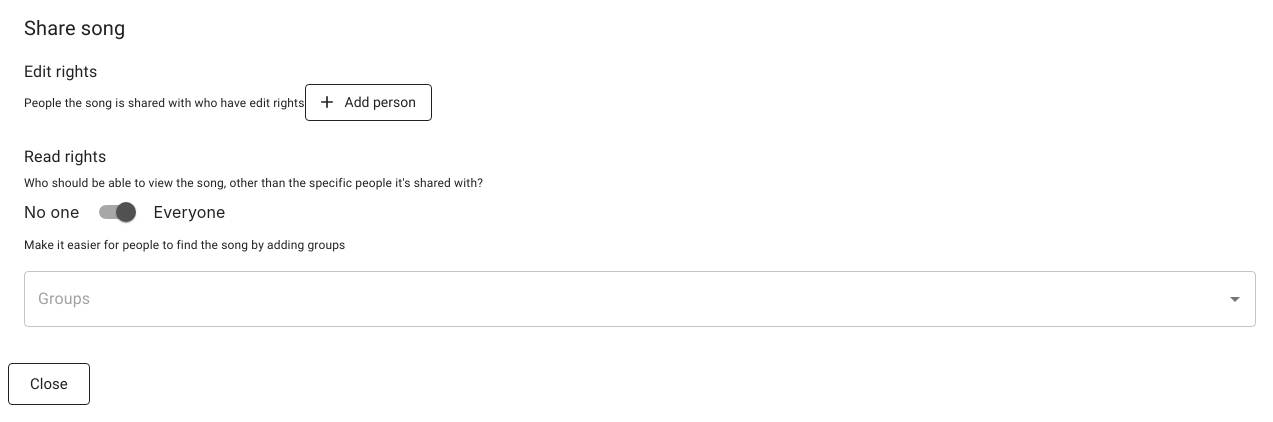
it: SharSongDialog › Should render and show song is public and change to private
Expected: the heading "Share song" is shown, [24, 16, 125, 40]
What coordinates should you click on to do the following:
click the checkbox named "Share with everyone"
I would click on:
 (126, 212)
Its box is [116, 202, 136, 222].
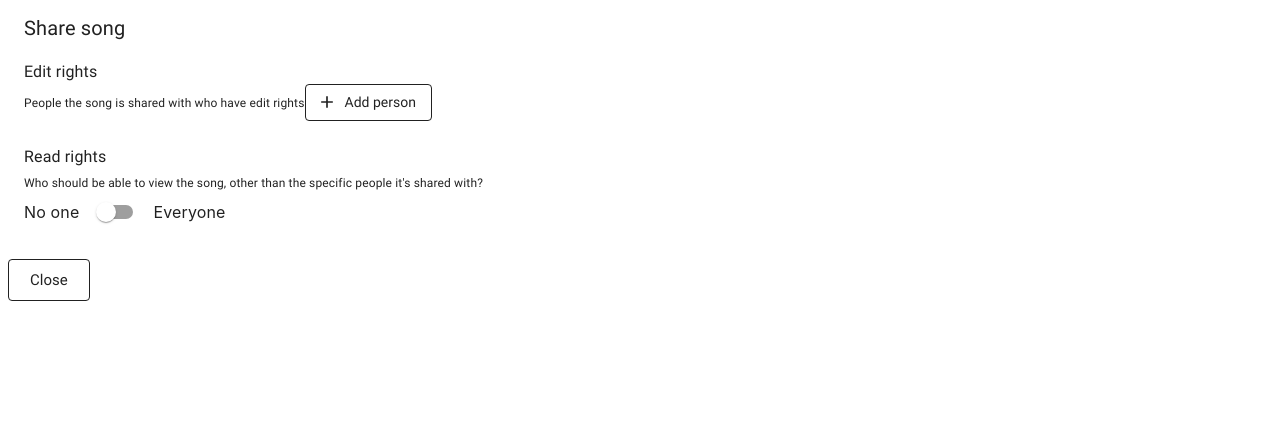
Expected: the checkbox named "Share with everyone" is not checked, [96, 202, 116, 222]
Expected: the text "groups" is gone
